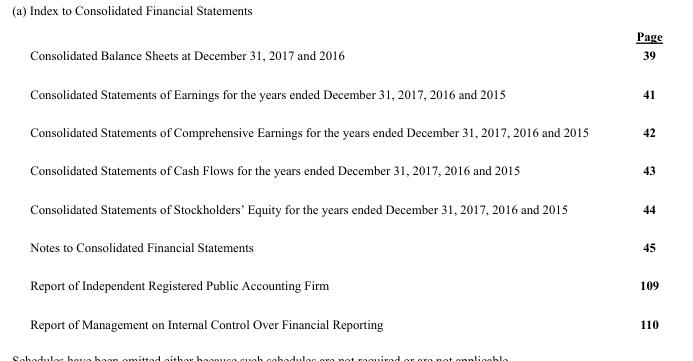table: (29, 28, 661, 330)
table column: (29, 28, 611, 330), (611, 28, 661, 330)
table column header: (29, 28, 661, 45)
table row: (29, 150, 661, 189), (29, 265, 661, 304), (29, 74, 661, 112), (29, 112, 661, 150), (29, 189, 661, 227), (29, 227, 661, 265), (29, 45, 661, 74), (29, 304, 661, 330), (29, 28, 661, 45)
